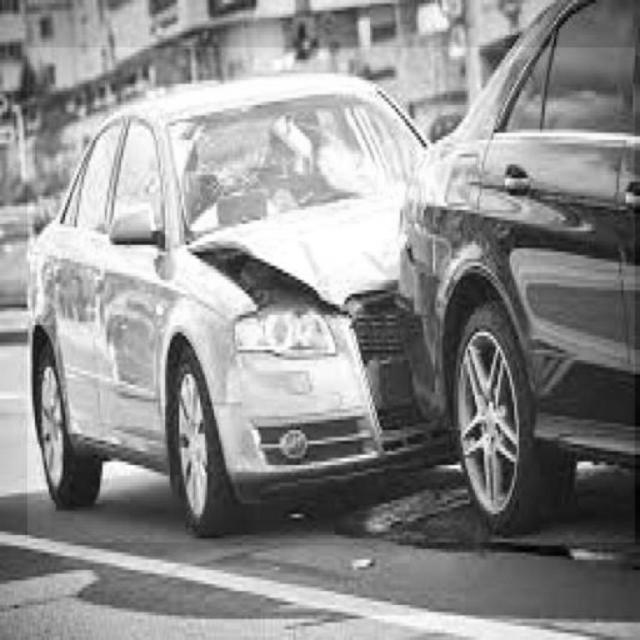accident: (27, 48, 635, 543)
